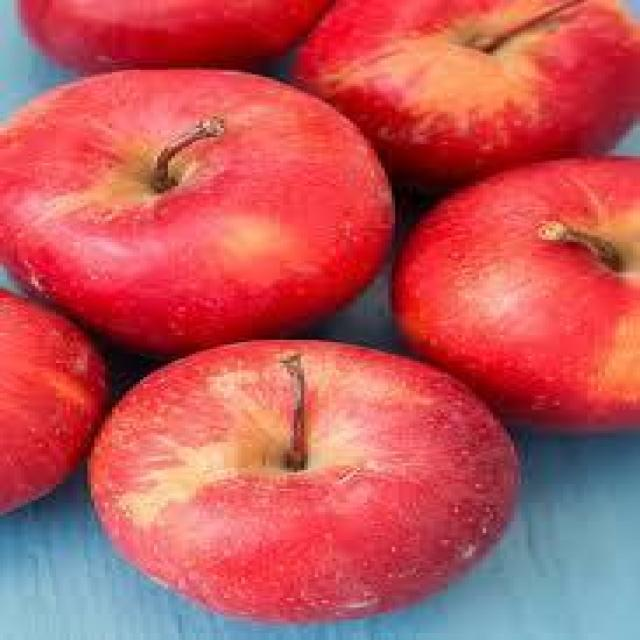maca: (0, 0, 637, 626), (84, 335, 521, 624), (0, 65, 395, 354), (388, 153, 637, 433), (287, 0, 636, 184), (0, 277, 108, 523)
